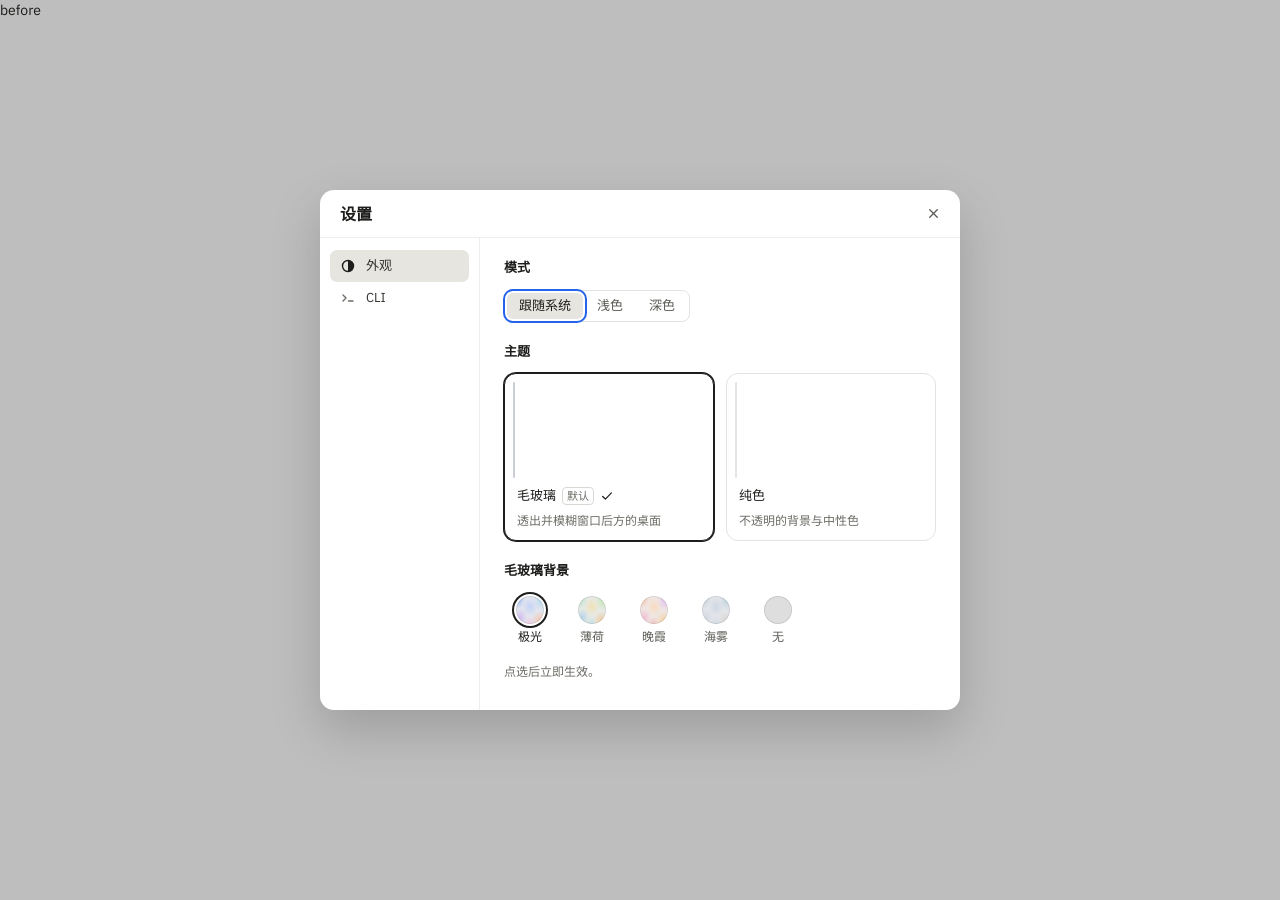
settings · FR-SET-001 / FR-SET-002 · AC-08 › offers glass background colours only for the glass theme; a click applies one at once (SET-Q5)
Click the radio button labelled "薄荷": point(592, 621) [566,592,618,650]
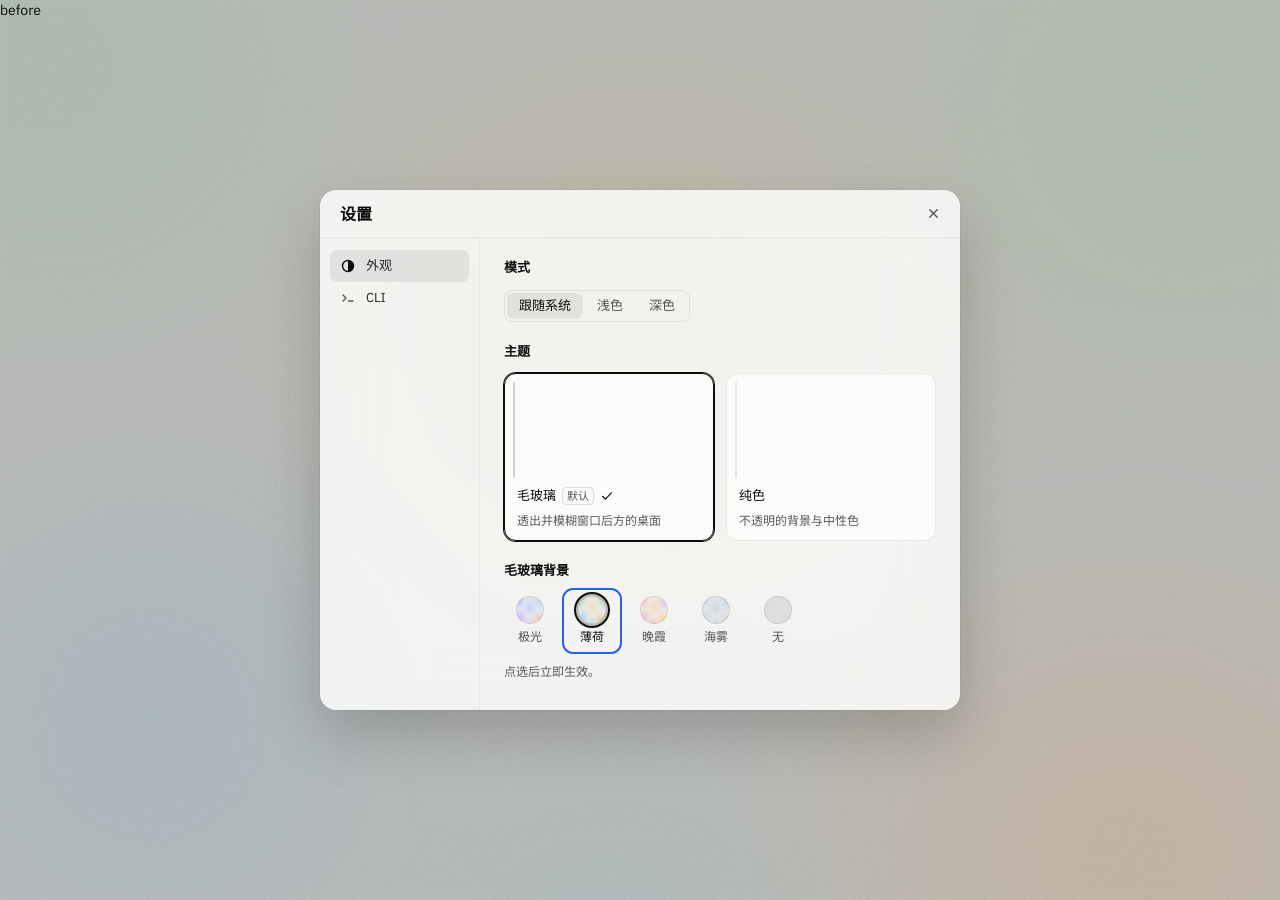
Expected: the radio button labelled "薄荷" is checked
Press ArrowLeft in the radio button labelled "薄荷", box [566,592,618,650]
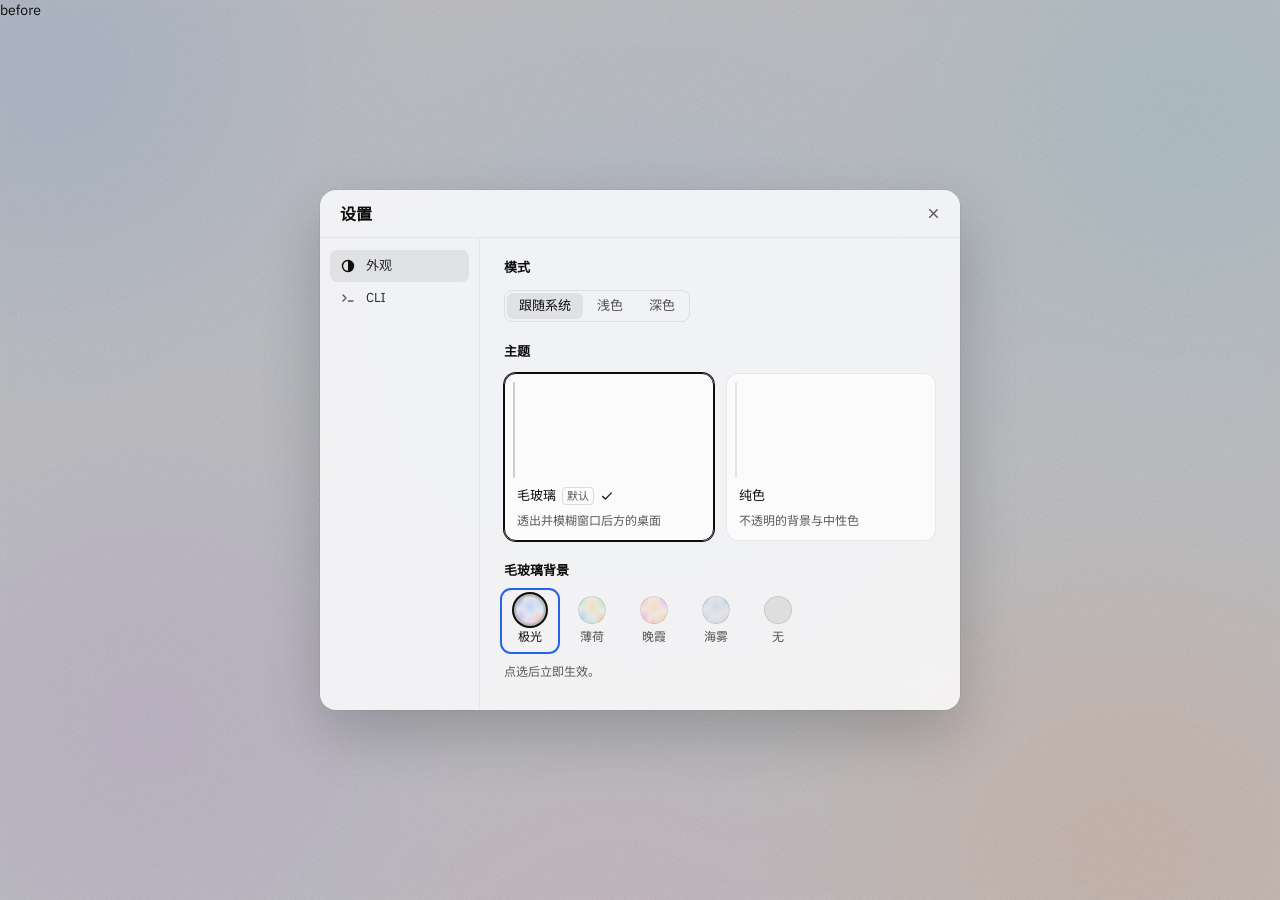
Click the radio button labelled "纯色 不透明的背景与中性色": point(831, 457) [726,373,936,540]
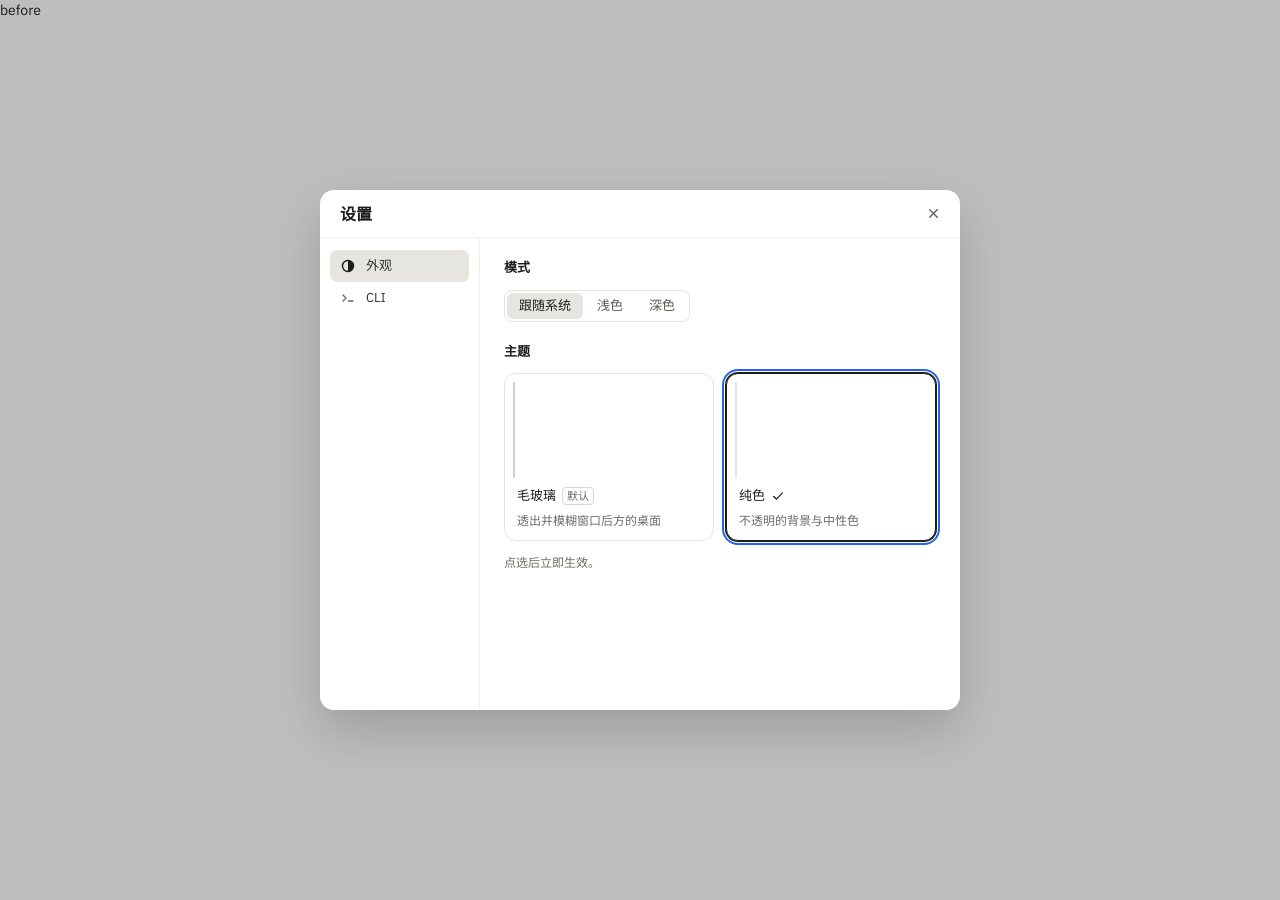
Expected: the heading "毛玻璃背景" is gone
